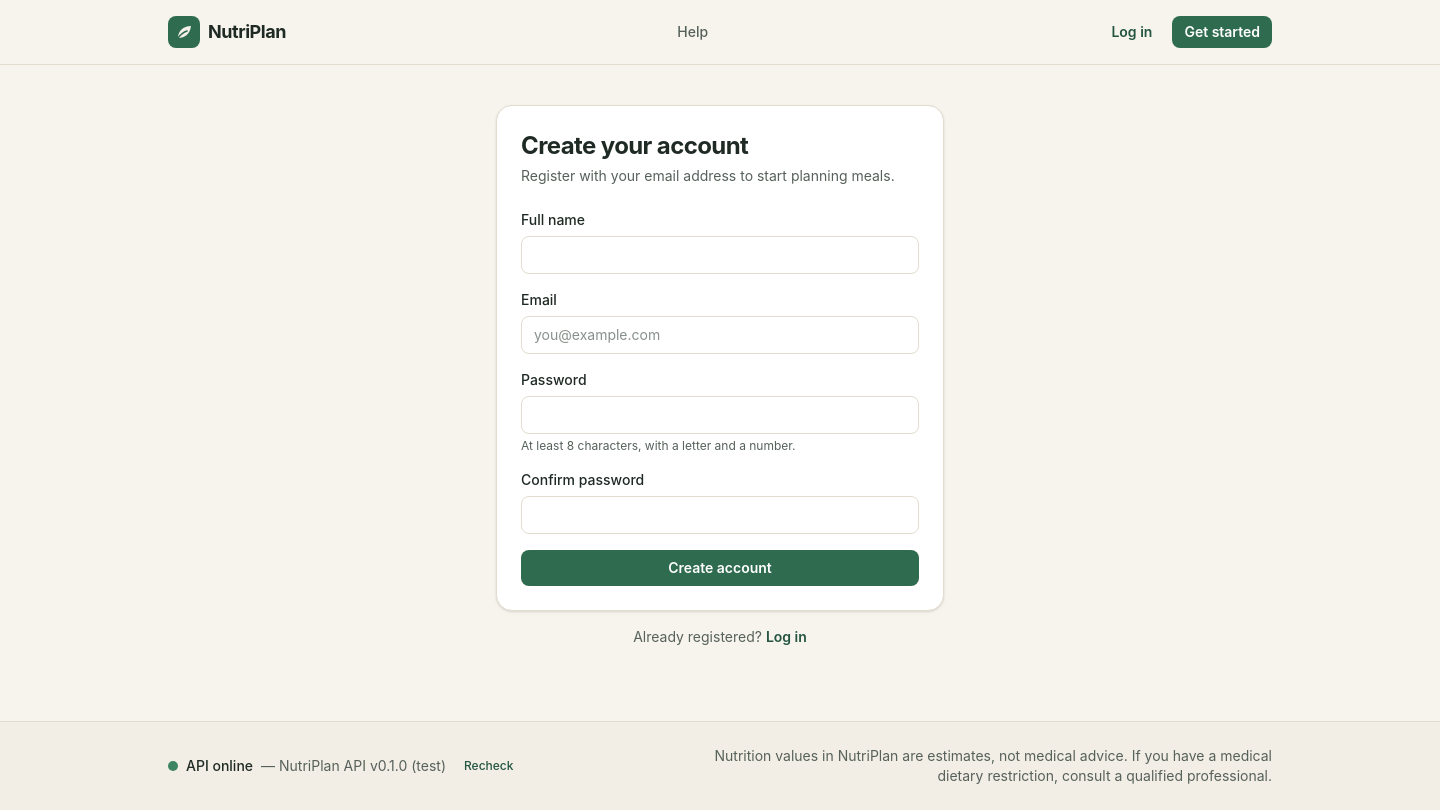
Test: Register (UC-01) › checks password rules and confirmation
The width and height of the screenshot is (1440, 810).
In the field labelled "Full name": (720, 255) [521,236,919,274], type "Asha"
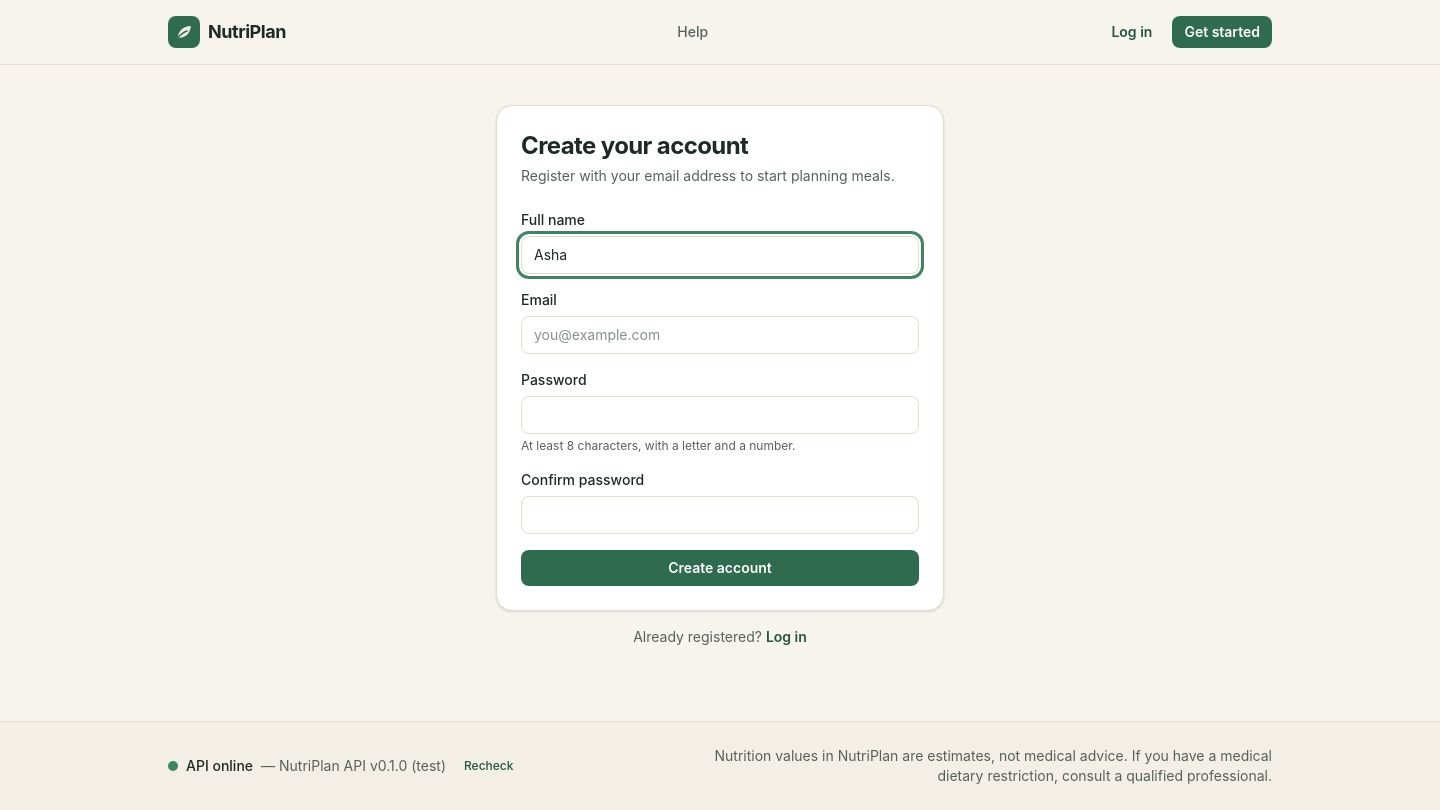
In the field labelled "Email": (720, 335) [521,316,919,354], type "asha@example.com"
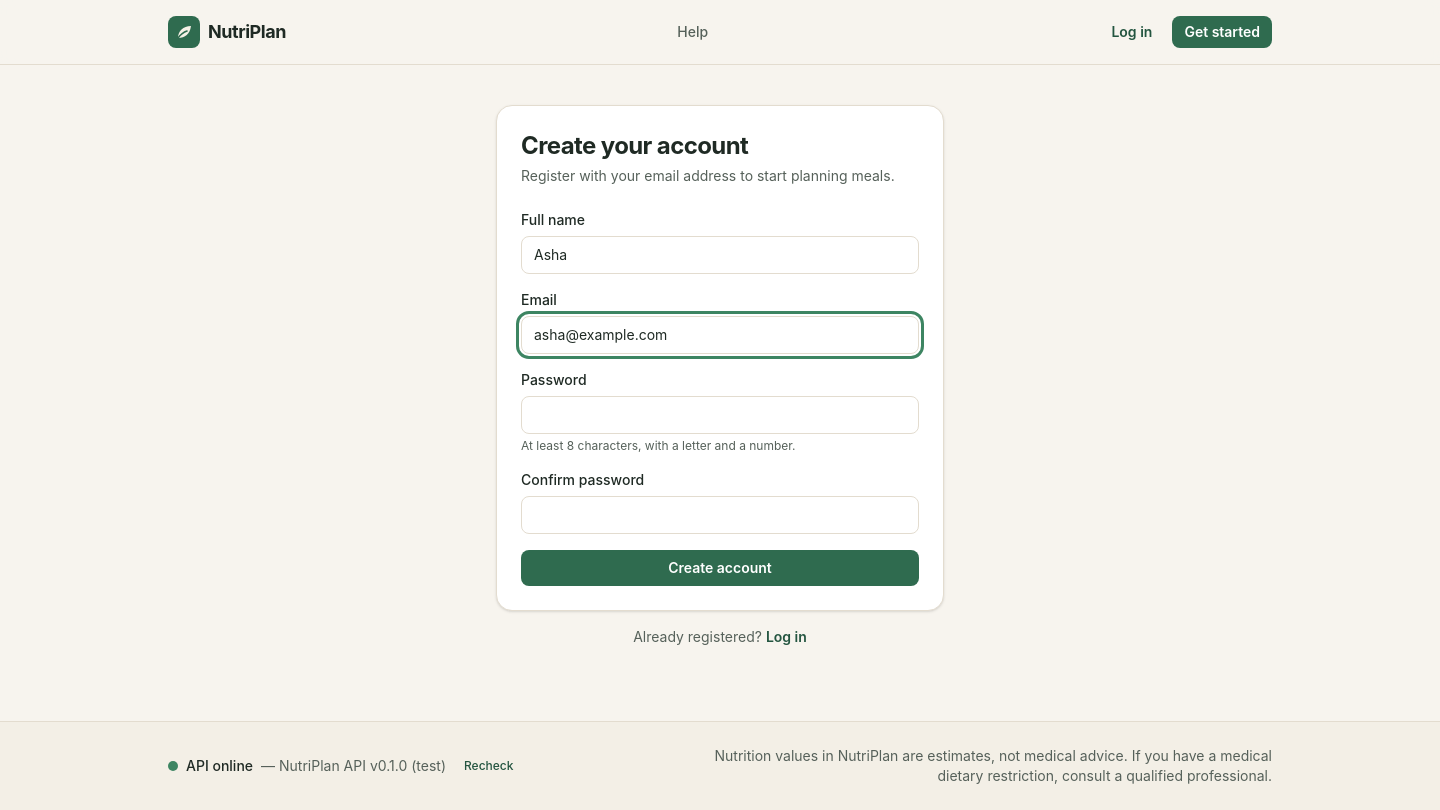
In the password field labelled "Password": (720, 415) [521,396,919,434], type "onlyletters"
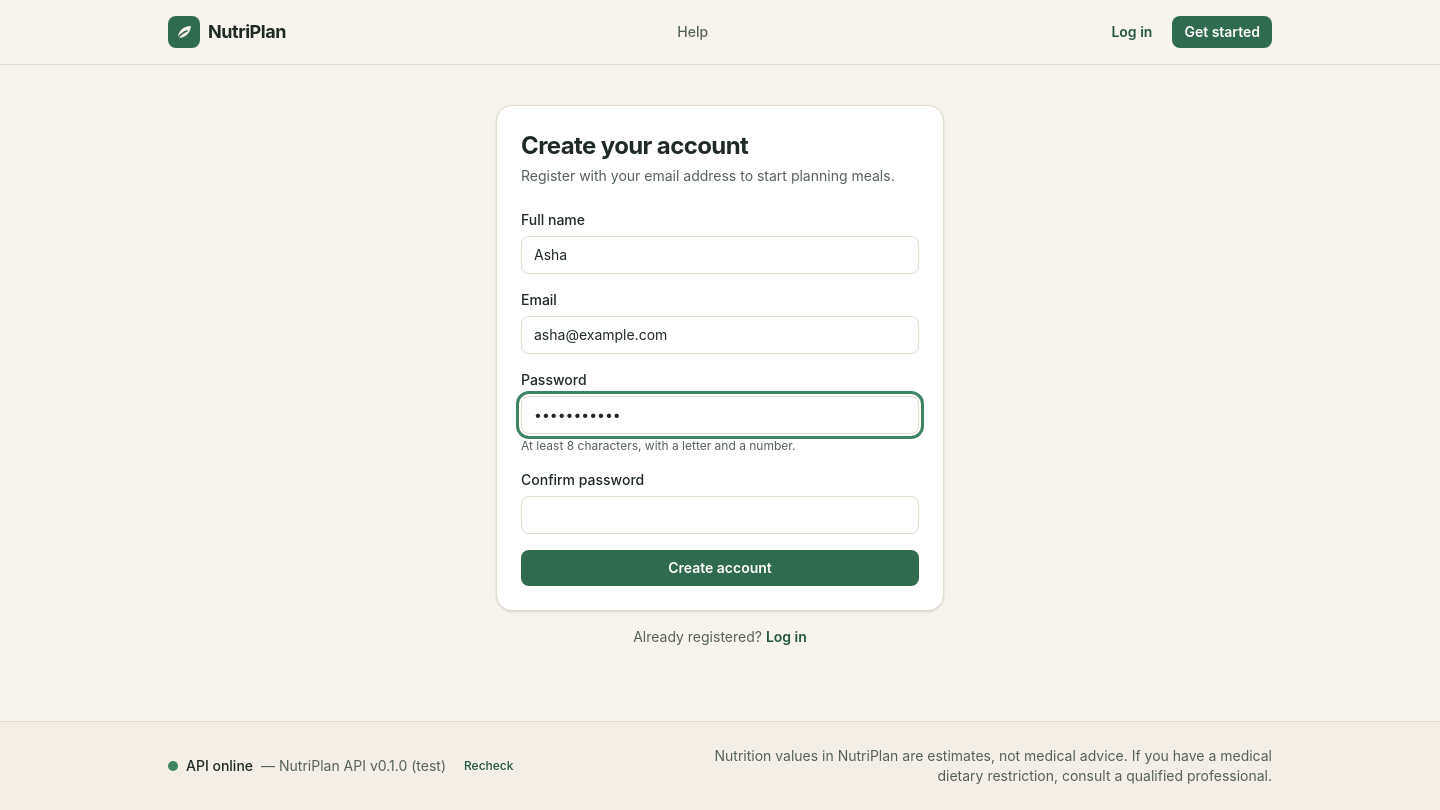
In the password field labelled "Confirm password": (720, 515) [521,496,919,534], type "different"
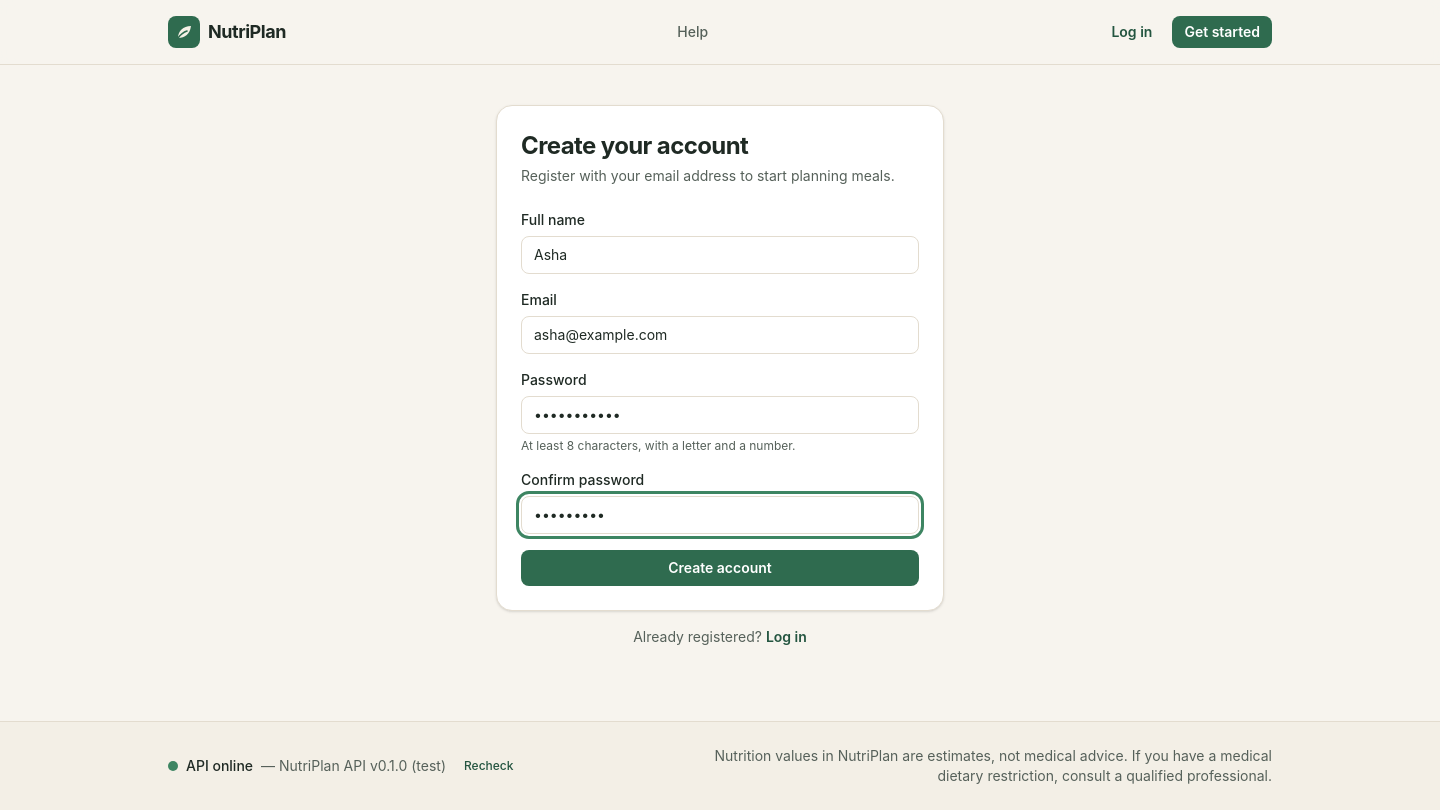
Click the button "Create account": (720, 568) [521,550,919,586]
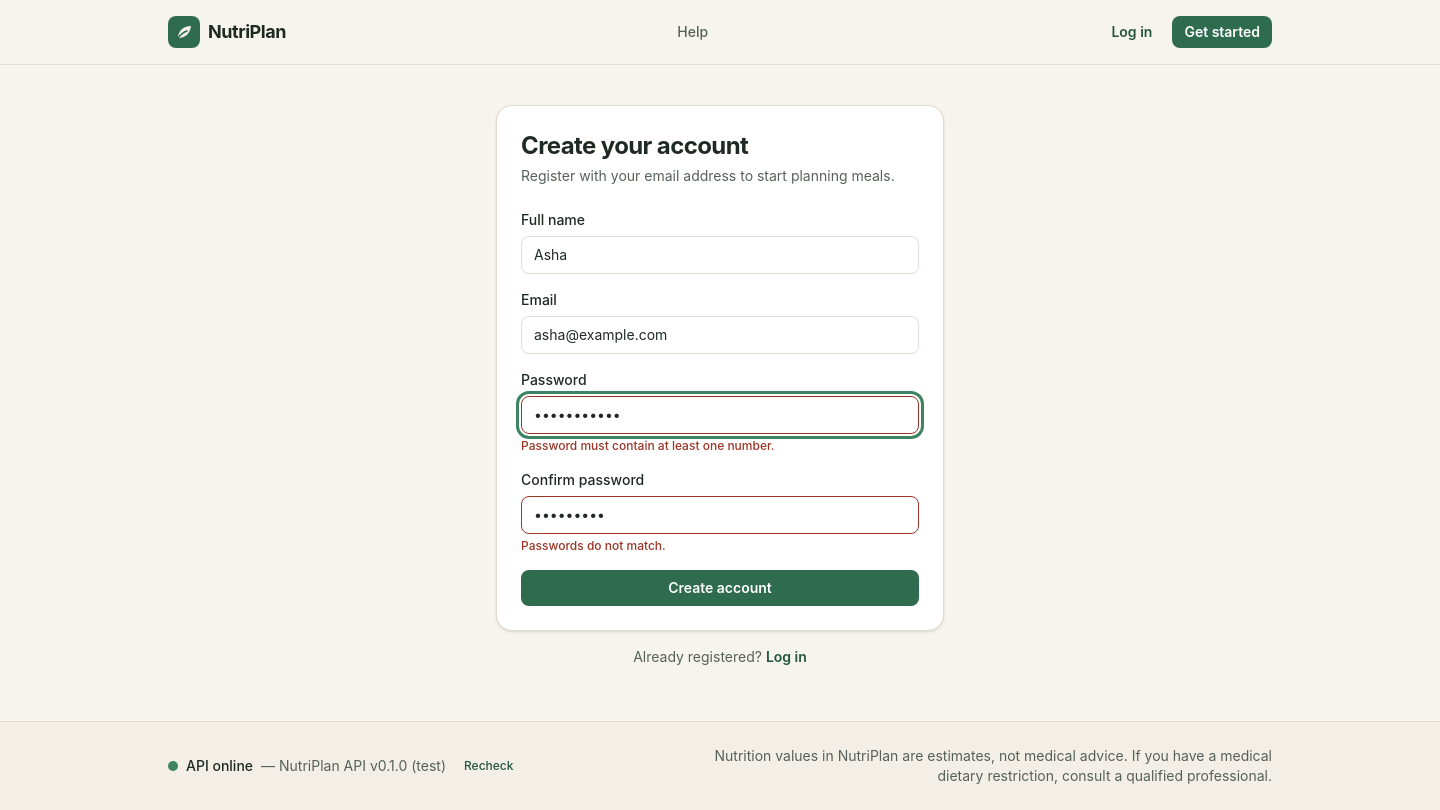
Expected: the text "Password must contain at least one number." is shown, [521,438,774,453]
Expected: the text "Passwords do not match." is shown, [521,538,666,553]
